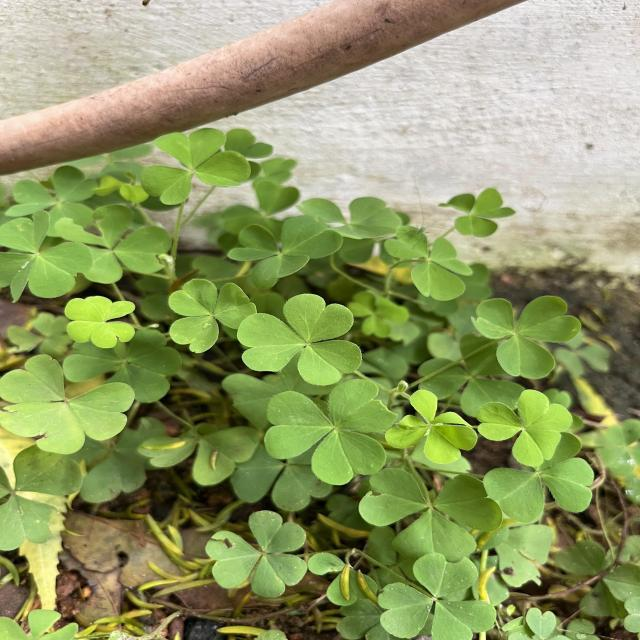Oxalis corniculata: (264, 378, 398, 486), (0, 353, 136, 456), (358, 466, 504, 561), (237, 292, 363, 387), (376, 551, 500, 640), (470, 294, 583, 380), (204, 508, 310, 598), (139, 126, 254, 206), (226, 214, 344, 291), (0, 208, 94, 303), (475, 388, 574, 468), (384, 388, 479, 465), (167, 277, 260, 354), (384, 224, 474, 303), (63, 295, 139, 350)
